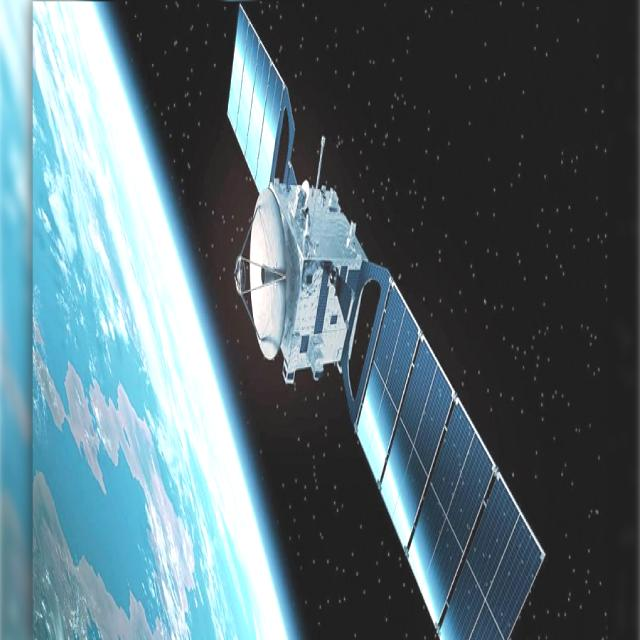medium_debris: (228, 8, 544, 638)
